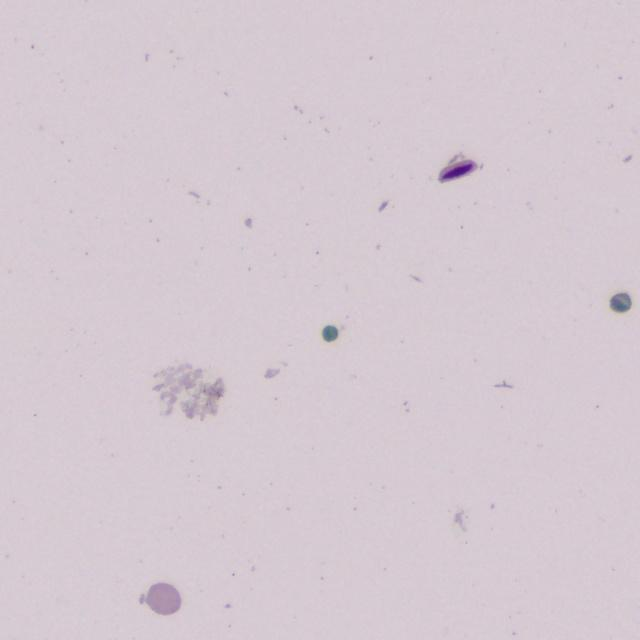intermediate: (144, 583, 180, 614)
non_viable: (610, 292, 631, 312), (322, 325, 338, 341)
